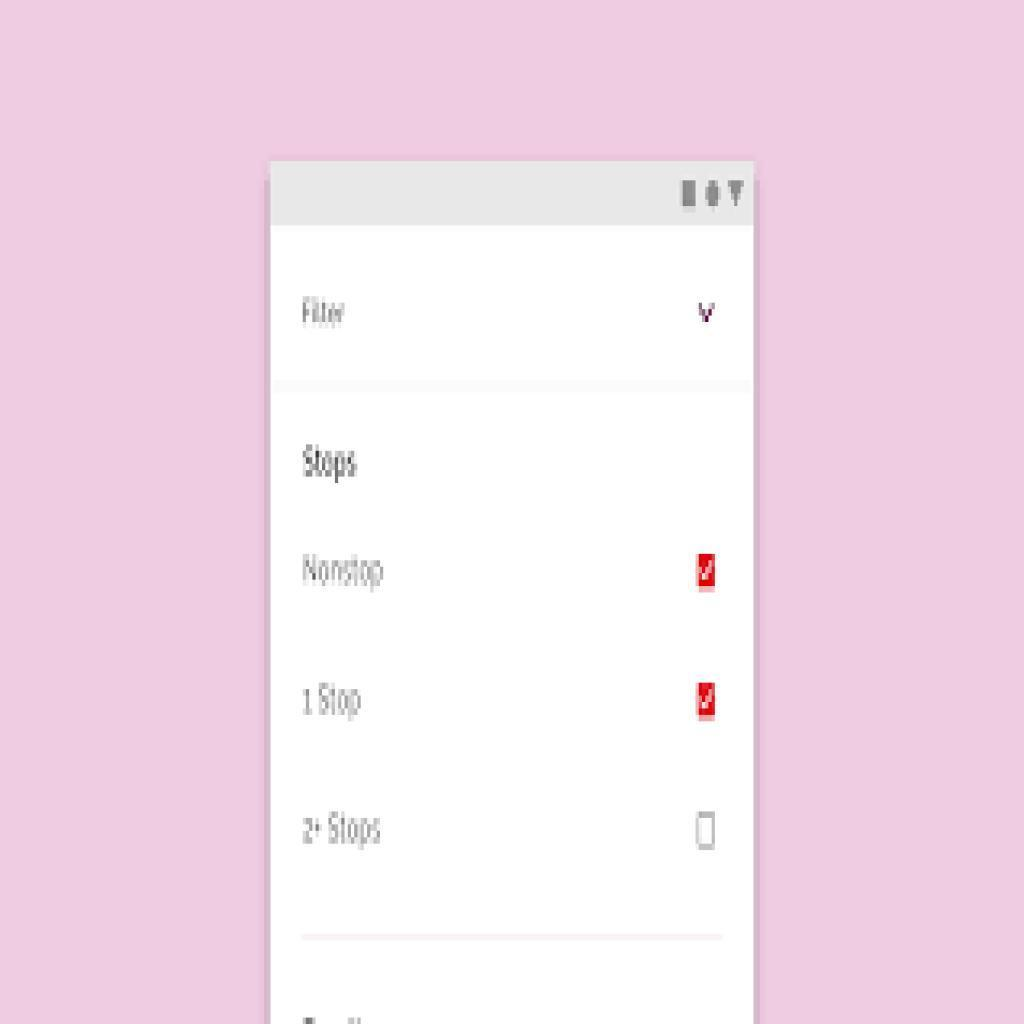checkbox: (697, 552, 719, 595), (696, 682, 720, 721), (695, 813, 718, 853)
icon: (694, 298, 722, 328)
label: (302, 551, 388, 597), (304, 810, 387, 855), (300, 681, 368, 733), (301, 434, 363, 489), (292, 292, 352, 330)
